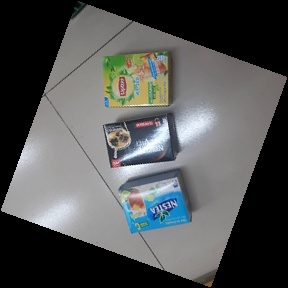CF Viet: (103, 113, 178, 168)
LipTon: (102, 50, 172, 107)
Nestea: (118, 169, 193, 236)
